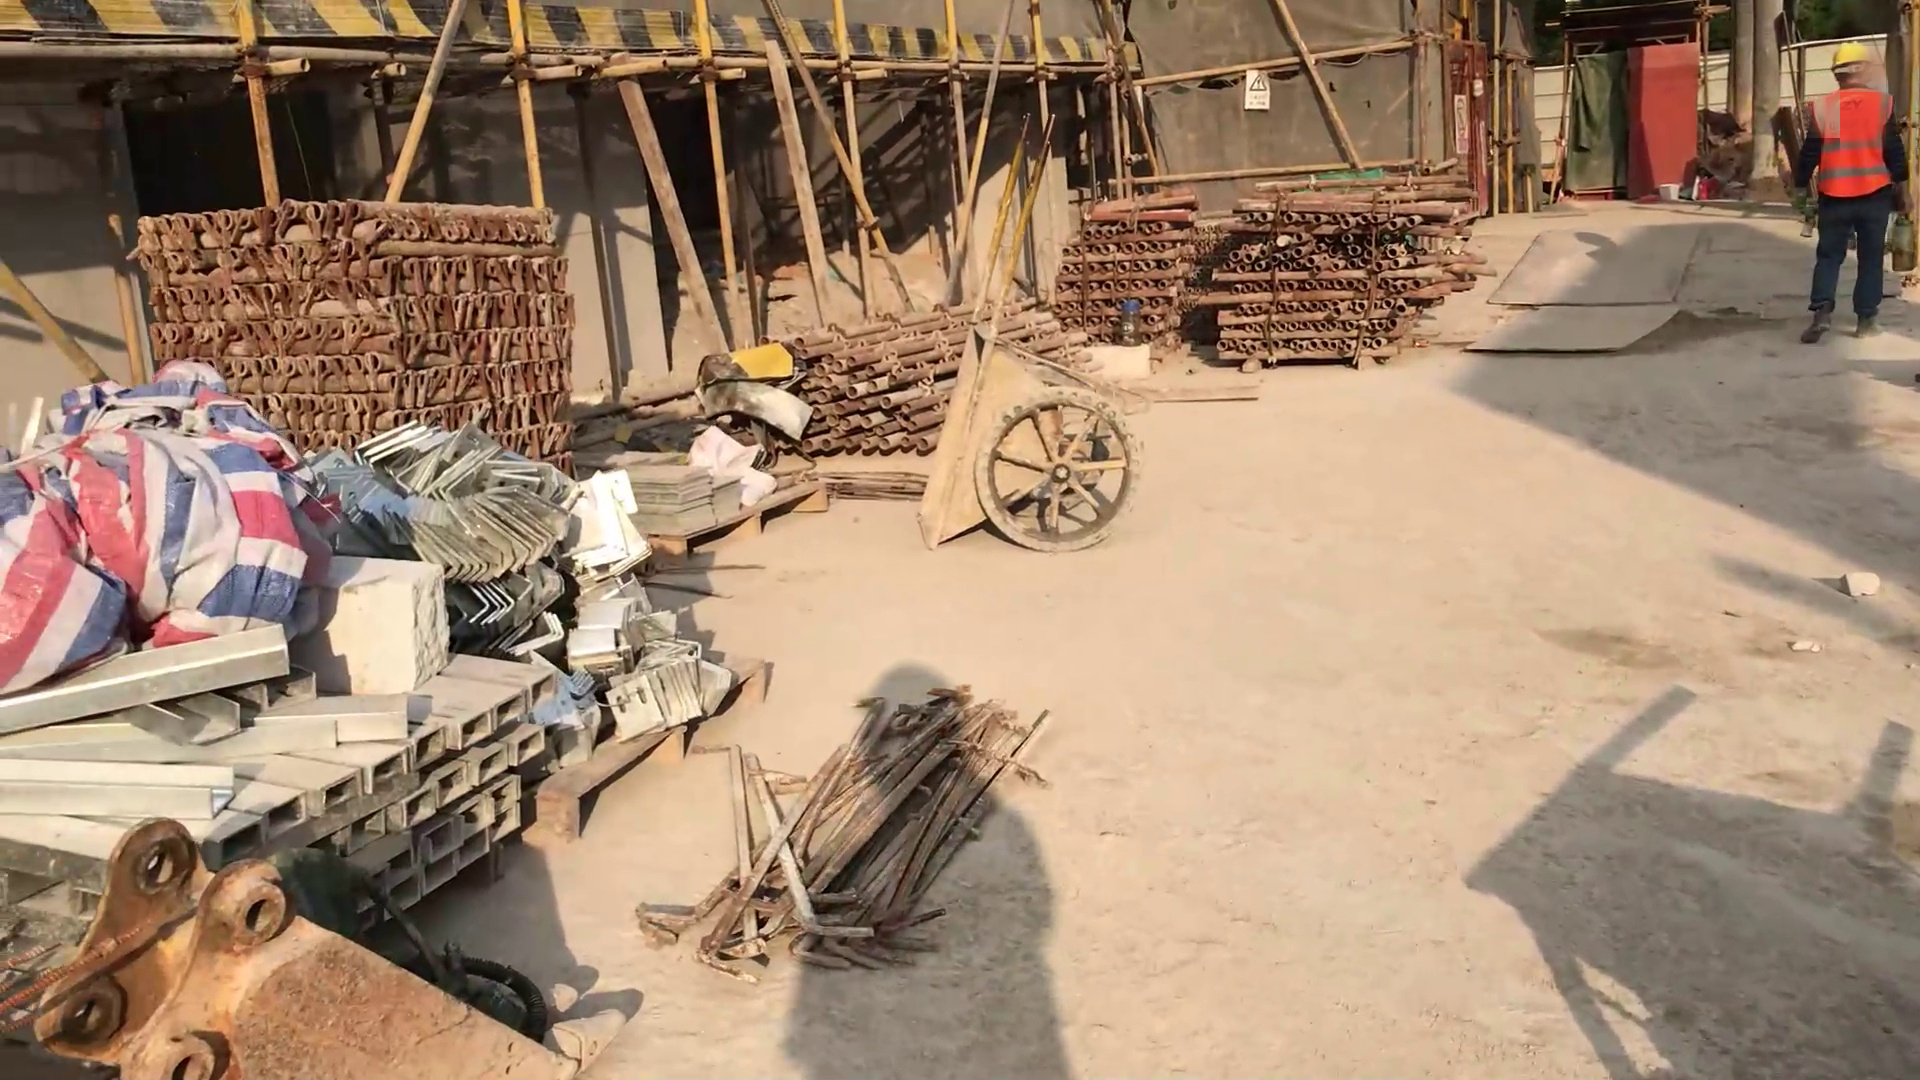handcart: (909, 105, 1143, 559)
helmet: (1828, 38, 1872, 80)
person: (1789, 35, 1920, 346)
scaffold: (128, 195, 579, 479), (1224, 167, 1492, 357), (784, 294, 1078, 453), (1047, 195, 1222, 346)
slogan: (1450, 92, 1471, 154), (1245, 66, 1270, 111)
vest: (1807, 87, 1897, 200)
